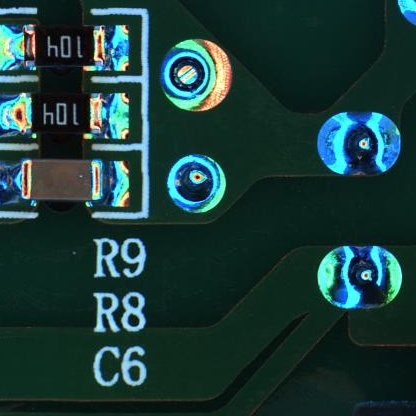spot: (316, 110, 403, 179), (316, 244, 404, 311), (160, 38, 232, 115), (164, 153, 228, 214)
